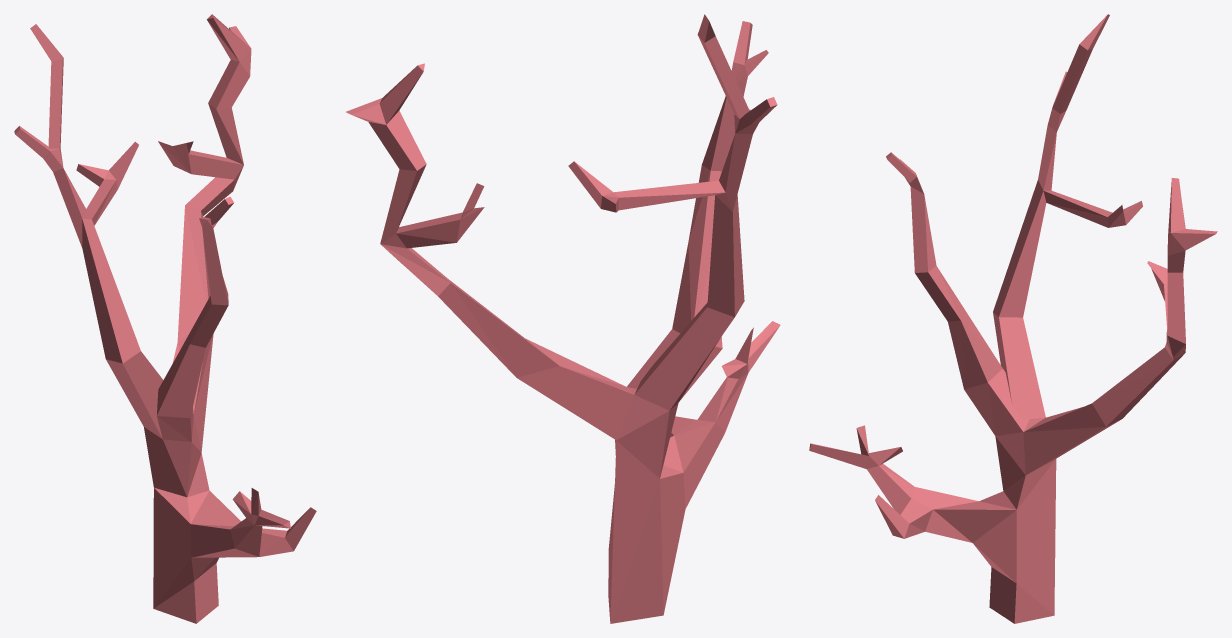
Rendered from pink_coral_textured (1).fbx.
3 renders of one model, left to right at view 1: azimuth 30°, elevation 25°; view 2: azimuth 150°, elevation 25°; view 3: azimuth 270°, elevation 25°, orthographic. The views are drawn at different scales.
Parts seen in each view (by area): view 1: pink coral; view 2: pink coral; view 3: pink coral.
Part boxes in pixels (x1,y1,x2,y2): pink coral: (14, 14, 316, 623); pink coral: (346, 14, 780, 623); pink coral: (809, 14, 1217, 623).
Size of the model in its own units: 172 by 319 by 214.
